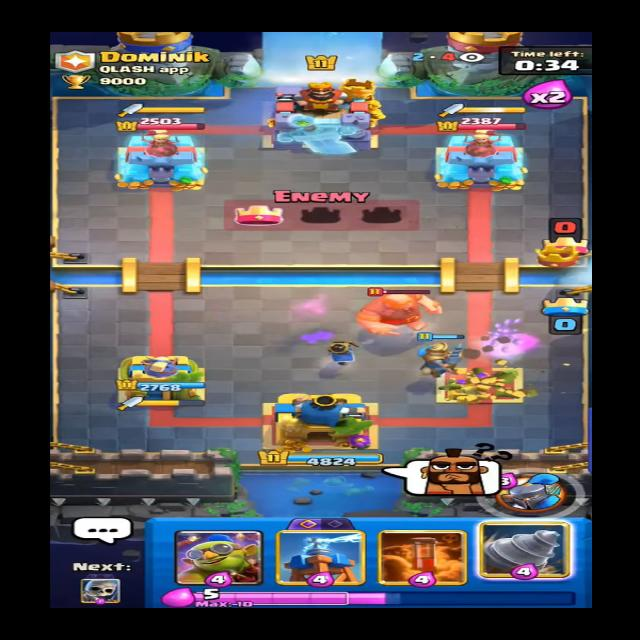Giant: (348, 282, 451, 335)
